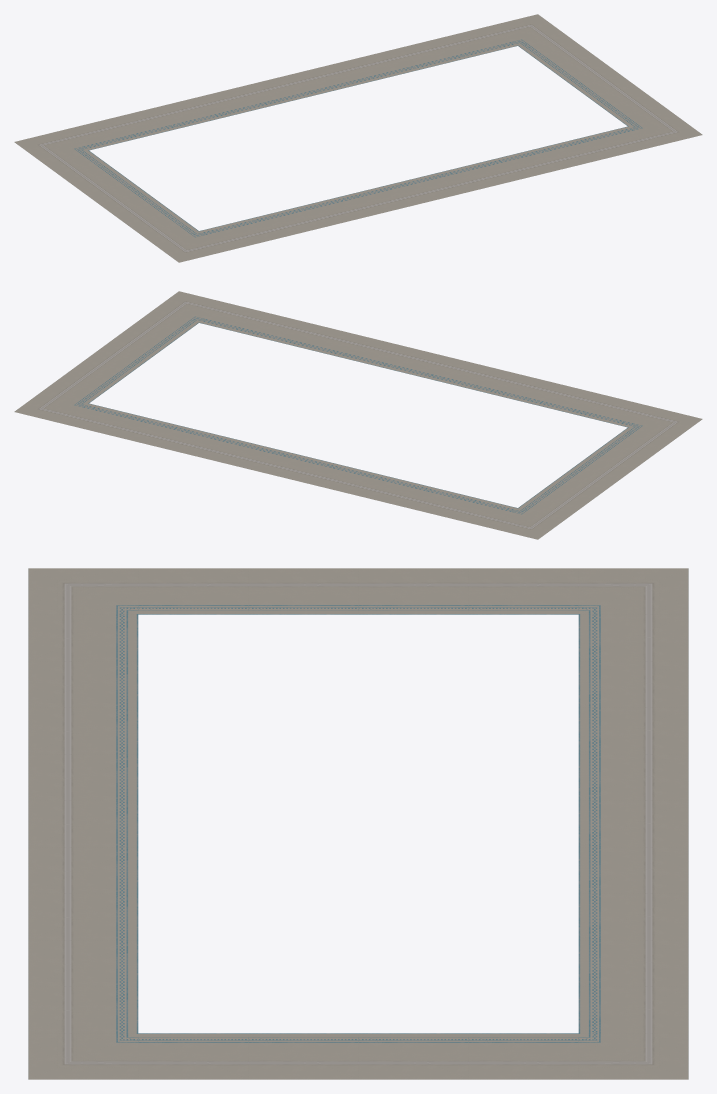
File: Poolside.fbx
3 views of the same model, one above another, from view 1: azimuth 30°, elevation 25°; view 2: azimuth 150°, elevation 25°; view 3: azimuth 270°, elevation 25° (orthographic). The views are drawn at different scales.
Visible parts, largest first — view 1: Poolside; view 2: Poolside; view 3: Poolside.
Boxes of the visible parts, box(x1,y1,x2,y2) form: Poolside: box(14, 14, 702, 262); Poolside: box(14, 291, 702, 539); Poolside: box(28, 568, 688, 1079).
Size of the model in its own units: 3300 by 7.63e-06 by 1800.
